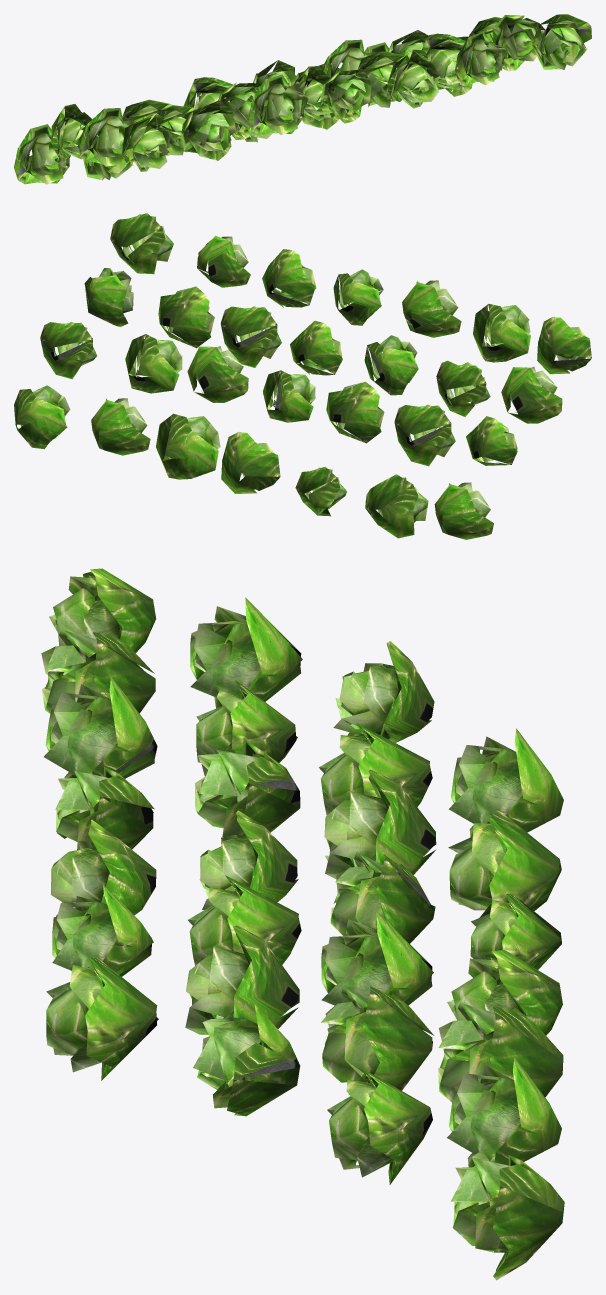
Rendered from nt_hydro_plant_green_LOD1.obj.
3 renders of one model, top to bottom at view 1: azimuth 30°, elevation 25°; view 2: azimuth 150°, elevation 25°; view 3: azimuth 270°, elevation 25°, orthographic. The views are drawn at different scales.
Visible parts, largest first — view 1: mtl_hydro_plant_01; view 2: mtl_hydro_plant_01; view 3: mtl_hydro_plant_01.
Boxes of the visible parts, x1,y1,x2,y2 form: mtl_hydro_plant_01: (14, 14, 591, 184); mtl_hydro_plant_01: (14, 213, 591, 539); mtl_hydro_plant_01: (41, 568, 564, 1280).
Size of the model in its own units: 288 by 91.8 by 137.
